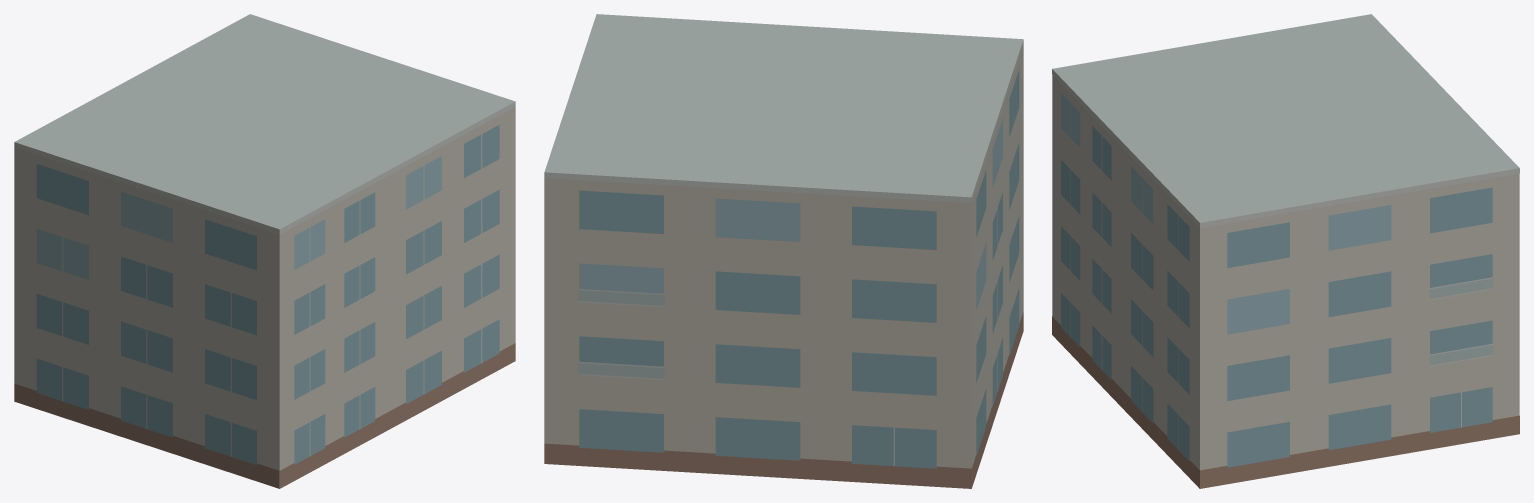
Rendered from residential-936e3ef3-c4b6-4a96-923e-9be7e1e2d971.glb.
The picture shows the model from 3 angles, left to right: view 1: azimuth 30°, elevation 25°; view 2: azimuth 150°, elevation 25°; view 3: azimuth 270°, elevation 25°; orthographic projection. The views are drawn at different scales.
Parts seen in each view (by area): view 1: residential-936e3ef3-c4b6-4a96-923e-9be7e1e2d971.tmp; view 2: residential-936e3ef3-c4b6-4a96-923e-9be7e1e2d971.tmp; view 3: residential-936e3ef3-c4b6-4a96-923e-9be7e1e2d971.tmp.
Part boxes in pixels (box(x1,y1,x2,y2)): residential-936e3ef3-c4b6-4a96-923e-9be7e1e2d971.tmp: box(14, 14, 515, 488); residential-936e3ef3-c4b6-4a96-923e-9be7e1e2d971.tmp: box(544, 14, 1023, 488); residential-936e3ef3-c4b6-4a96-923e-9be7e1e2d971.tmp: box(1052, 14, 1519, 488).
Size of the model in its own units: 20.55 by 12.2 by 19.45.
